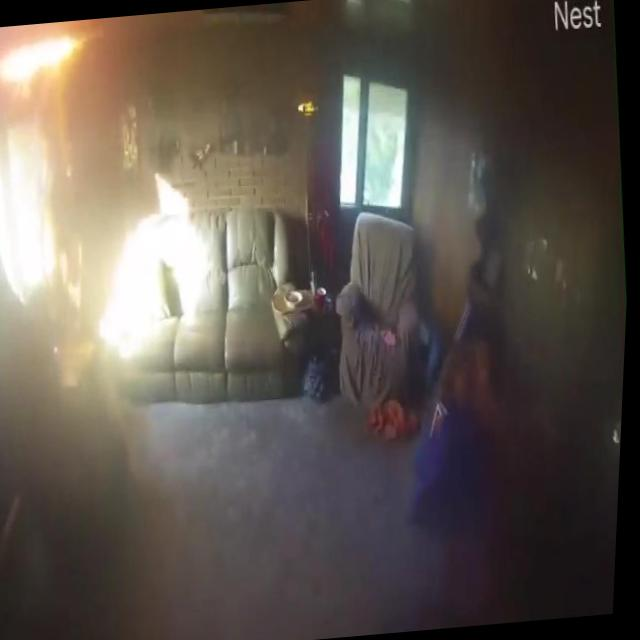fire: (0, 28, 100, 94)
